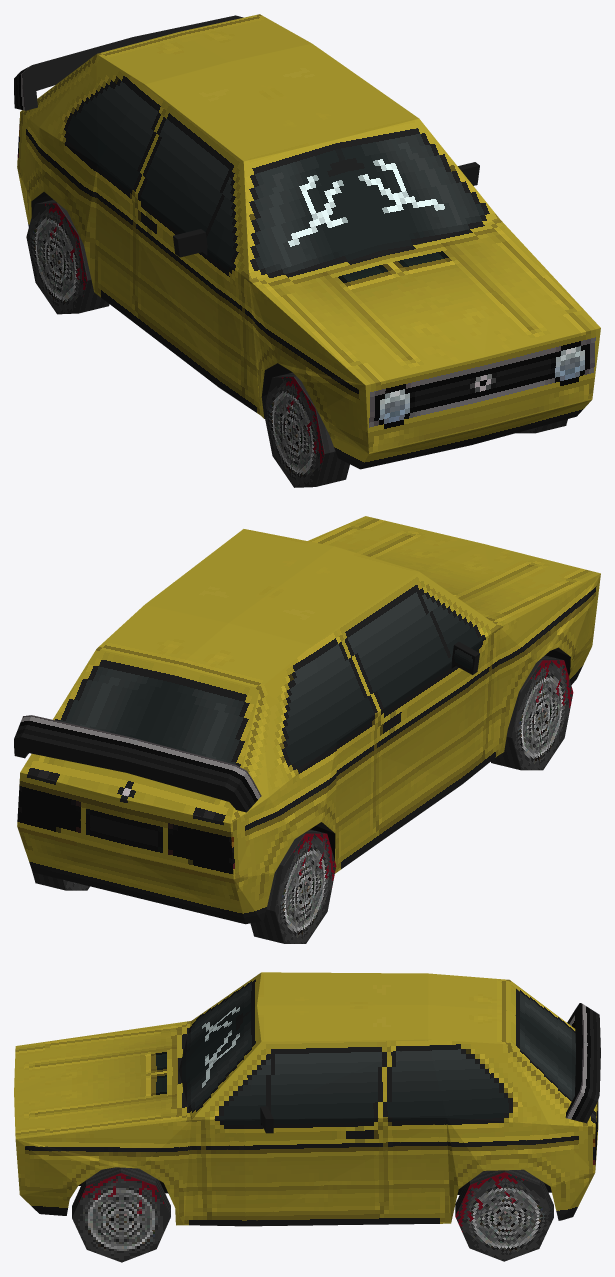
File: Car3.glb
3 views of the same model, one above another, from view 1: azimuth 30°, elevation 25°; view 2: azimuth 150°, elevation 25°; view 3: azimuth 270°, elevation 25° (orthographic). The views are drawn at different scales.
Visible parts, largest first — view 1: Car3.001, Car3.005, Car3.003; view 2: Car3.001, Car3.005, Car3.003; view 3: Car3.001, Car3.005.
Boxes of the visible parts, x1,y1,x2,y2 form: Car3.001: (17, 14, 600, 487); Car3.005: (14, 15, 243, 110); Car3.003: (173, 229, 207, 257); Car3.001: (17, 516, 600, 943); Car3.005: (14, 715, 261, 812); Car3.003: (451, 641, 479, 674); Car3.001: (14, 972, 598, 1262); Car3.005: (565, 1003, 600, 1123).
Size of the model in its own units: 2.65 by 2.14 by 5.5.
1 material, 1 textured.
